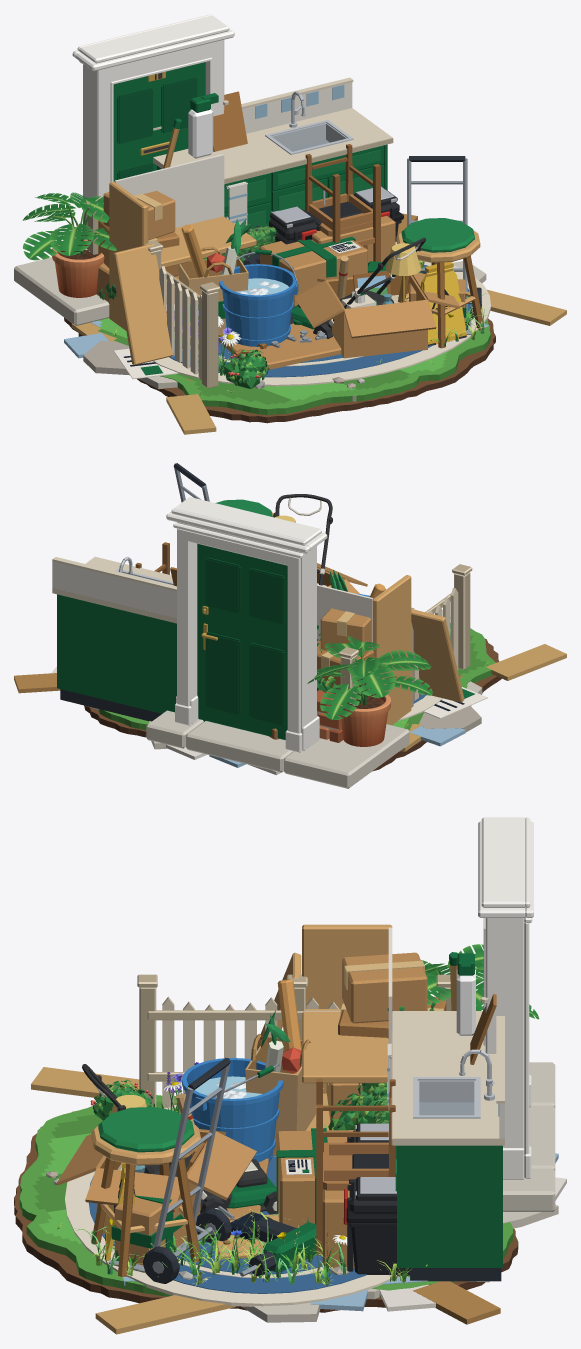
File: minimondes.glb
The picture shows the model from 3 angles, top to bottom: view 1: azimuth 30°, elevation 25°; view 2: azimuth 150°, elevation 25°; view 3: azimuth 270°, elevation 25°; orthographic projection. The views are drawn at different scales.
Parts seen in each view (by area): view 1: Meuble cuisine, Encadrement (proto), Jardin · pelouse, Monstera (proto), Barrière · bois, Seau arrondi, Planche appuyée.001 (proto), Fond.001 (proto), Chaise retournée, Porte · moulures, Porte · vantail, Jardin · terre (+33 smaller); view 2: Meuble cuisine, Encadrement (proto), Porte · moulures dos, Seuil · perron, Porte · vantail, Monstera (proto), Côté gauche.001 (proto), Barrière · bois, Planche appuyée.001 (proto), Jardin · pelouse, Lame détachée 26, Fond.001 (proto) (+10 smaller); view 3: Meuble cuisine, Encadrement (proto), Jardin · pelouse, Barrière · bois, Caisse.003 (proto), Seau arrondi, Tapis ovale bord, Tablette.003 (proto), Herbe · touffes, Seuil · perron, Côté gauche.001 (proto), Chaise retournée (+38 smaller).
Part boxes in pixels (box(x1,y1,x2,y2)): Meuble cuisine: box(153, 77, 393, 228); Encadrement (proto): box(72, 14, 234, 231); Jardin · pelouse: box(98, 318, 490, 414); Monstera (proto): box(22, 192, 116, 297); Barrière · bois: box(86, 198, 220, 388); Seau arrondi: box(219, 249, 298, 346); Planche appuyée.001 (proto): box(113, 243, 173, 364); Fond.001 (proto): box(114, 154, 224, 227); Chaise retournée: box(305, 144, 380, 261); Porte · moulures: box(117, 77, 197, 179); Porte · vantail: box(113, 62, 205, 181); Jardin · terre: box(64, 317, 495, 423); Meuble cuisine: box(52, 556, 205, 721); Encadrement (proto): box(166, 497, 327, 752); Porte · moulures dos: box(205, 557, 284, 725); Seuil · perron: box(146, 710, 409, 788); Porte · vantail: box(197, 543, 287, 739); Monstera (proto): box(307, 636, 432, 746); Côté gauche.001 (proto): box(372, 575, 411, 725); Barrière · bois: box(338, 564, 472, 707); Planche appuyée.001 (proto): box(411, 609, 464, 702); Jardin · pelouse: box(98, 628, 495, 730); Lame détachée 26: box(486, 644, 566, 680); Fond.001 (proto): box(317, 584, 373, 647); Meuble cuisine: box(387, 993, 504, 1281); Encadrement (proto): box(478, 817, 533, 1179); Jardin · pelouse: box(19, 1095, 512, 1297); Barrière · bois: box(137, 974, 451, 1108); Caisse.003 (proto): box(343, 1123, 409, 1276); Seau arrondi: box(182, 1058, 283, 1162); Tapis ovale bord: box(65, 1104, 398, 1306); Tablette.003 (proto): box(302, 1009, 388, 1083); Herbe · touffes: box(57, 1102, 427, 1285); Seuil · perron: box(503, 1062, 555, 1211); Côté gauche.001 (proto): box(302, 924, 392, 1093); Chaise retournée: box(316, 1078, 395, 1255).
Size of the model in its own units: 3.28 by 1.8 by 2.85.
